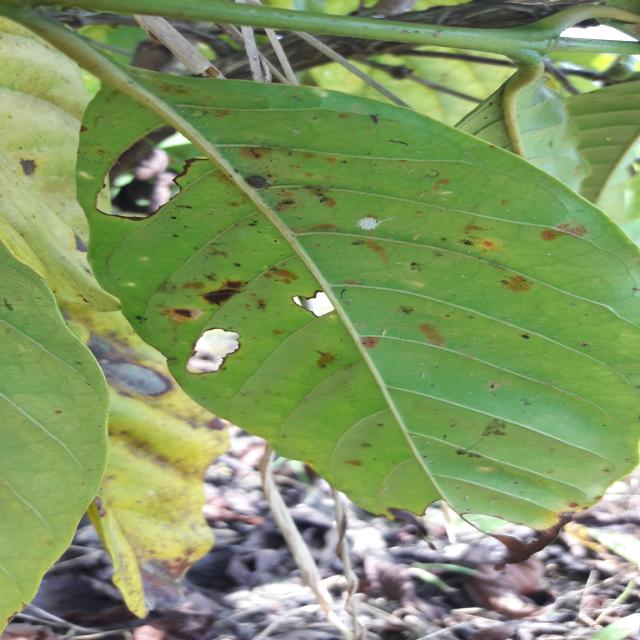Plaga-AranaRoja: (67, 34, 640, 535)
